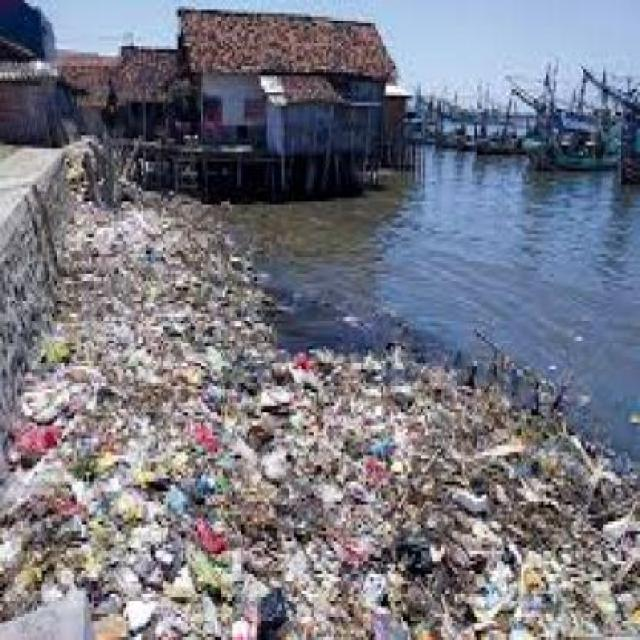garbage: (212, 346, 634, 636), (0, 187, 212, 636), (209, 225, 264, 364)
